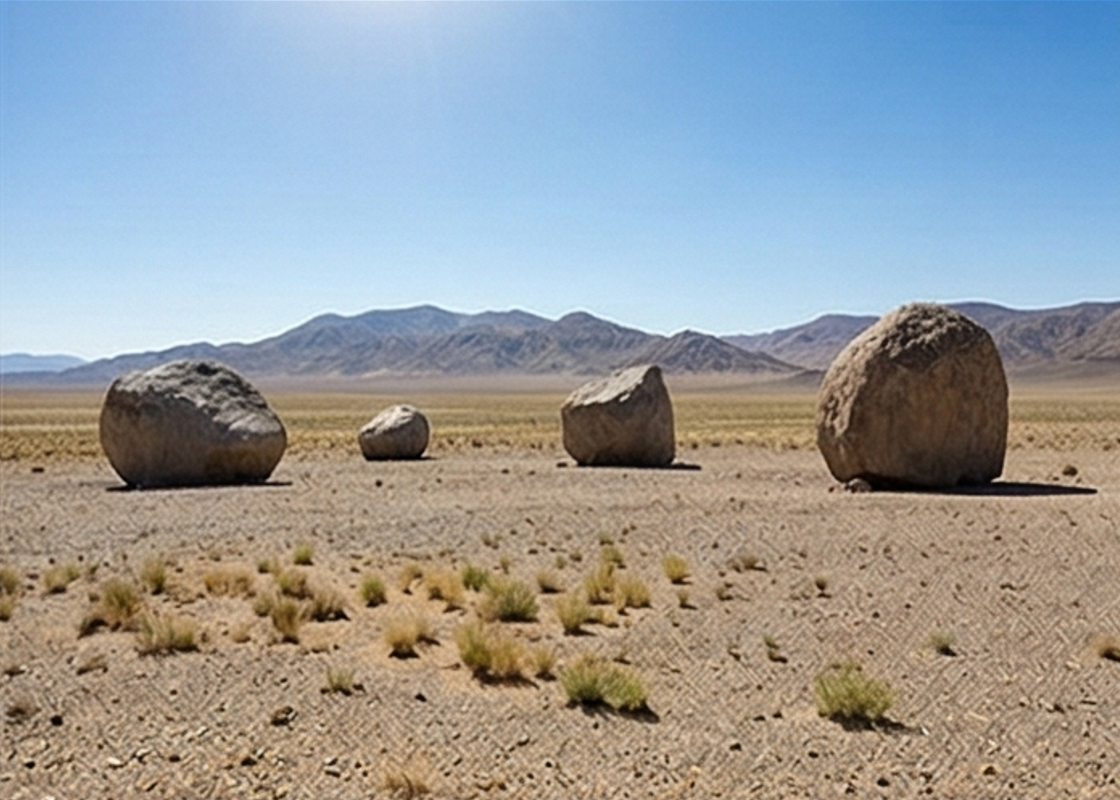rocks: (818, 303, 1008, 487), (101, 361, 285, 486), (562, 366, 672, 467), (359, 405, 429, 459)
